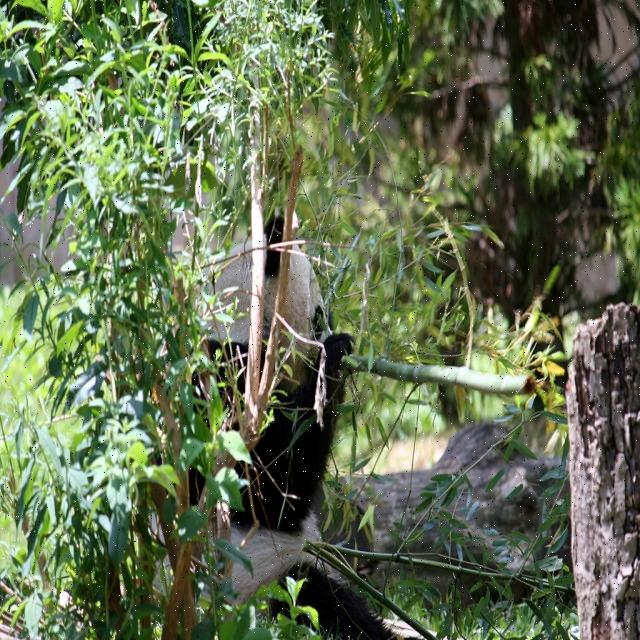panda: (157, 212, 422, 640)
